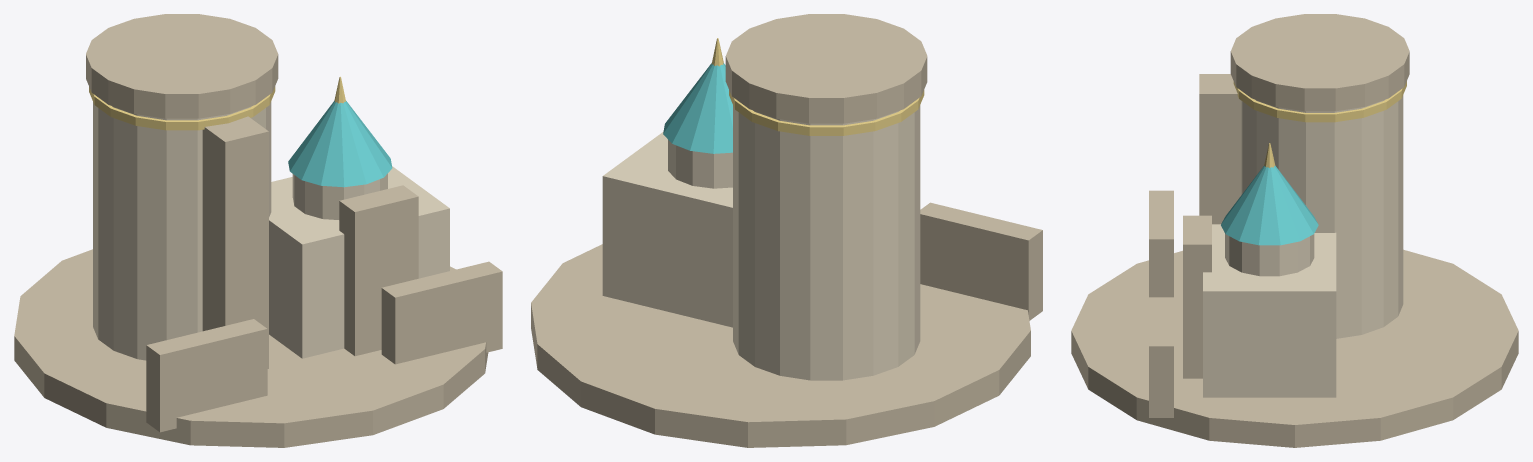
Rendered from city_baku.glb.
The picture shows the model from 3 angles, left to right: view 1: azimuth 30°, elevation 25°; view 2: azimuth 150°, elevation 25°; view 3: azimuth 270°, elevation 25°; orthographic projection. The views are drawn at different scales.
Visible parts, largest first — view 1: BasePlatform, MaidenTower, MaidenCrown, PalaceHall, MaidenButtress, WallFrontL, WallFrontR, PalacePortal, PalaceDome, DomeDrum, MaidenGoldBand; view 2: BasePlatform, MaidenTower, PalaceHall, MaidenCrown, WallFrontL, PalaceDome, DomeDrum, MaidenGoldBand; view 3: BasePlatform, MaidenTower, PalaceHall, MaidenCrown, MaidenButtress, PalaceDome, PalacePortal, WallFrontR, DomeDrum, WallFrontL, MaidenGoldBand.
Part boxes in pixels (bbox=[...]): BasePlatform: bbox=[14, 249, 488, 447]; MaidenTower: bbox=[93, 101, 271, 360]; MaidenCrown: bbox=[86, 14, 278, 118]; PalaceHall: bbox=[269, 166, 449, 358]; MaidenButtress: bbox=[202, 116, 268, 368]; WallFrontL: bbox=[146, 319, 267, 432]; WallFrontR: bbox=[381, 261, 502, 364]; PalacePortal: bbox=[339, 185, 418, 356]; PalaceDome: bbox=[288, 101, 392, 187]; DomeDrum: bbox=[292, 173, 387, 219]; MaidenGoldBand: bbox=[89, 86, 275, 130]; BasePlatform: bbox=[531, 244, 1030, 447]; MaidenTower: bbox=[733, 105, 920, 380]; PalaceHall: bbox=[602, 132, 732, 327]; MaidenCrown: bbox=[725, 14, 927, 123]; WallFrontL: bbox=[920, 202, 1042, 320]; PalaceDome: bbox=[663, 63, 732, 153]; DomeDrum: bbox=[668, 140, 732, 188]; MaidenGoldBand: bbox=[729, 90, 924, 135]; BasePlatform: bbox=[1071, 249, 1518, 447]; MaidenTower: bbox=[1241, 95, 1403, 338]; PalaceHall: bbox=[1203, 224, 1336, 397]; MaidenCrown: bbox=[1230, 14, 1409, 111]; MaidenButtress: bbox=[1199, 74, 1241, 224]; PalaceDome: bbox=[1221, 166, 1318, 245]; PalacePortal: bbox=[1183, 215, 1211, 378]; WallFrontR: bbox=[1149, 297, 1173, 417]; DomeDrum: bbox=[1225, 233, 1314, 276]; WallFrontL: bbox=[1149, 190, 1173, 297]; MaidenGoldBand: bbox=[1233, 81, 1406, 122].
Size of the model in its own units: 6.2 by 4.23 by 6.2.
